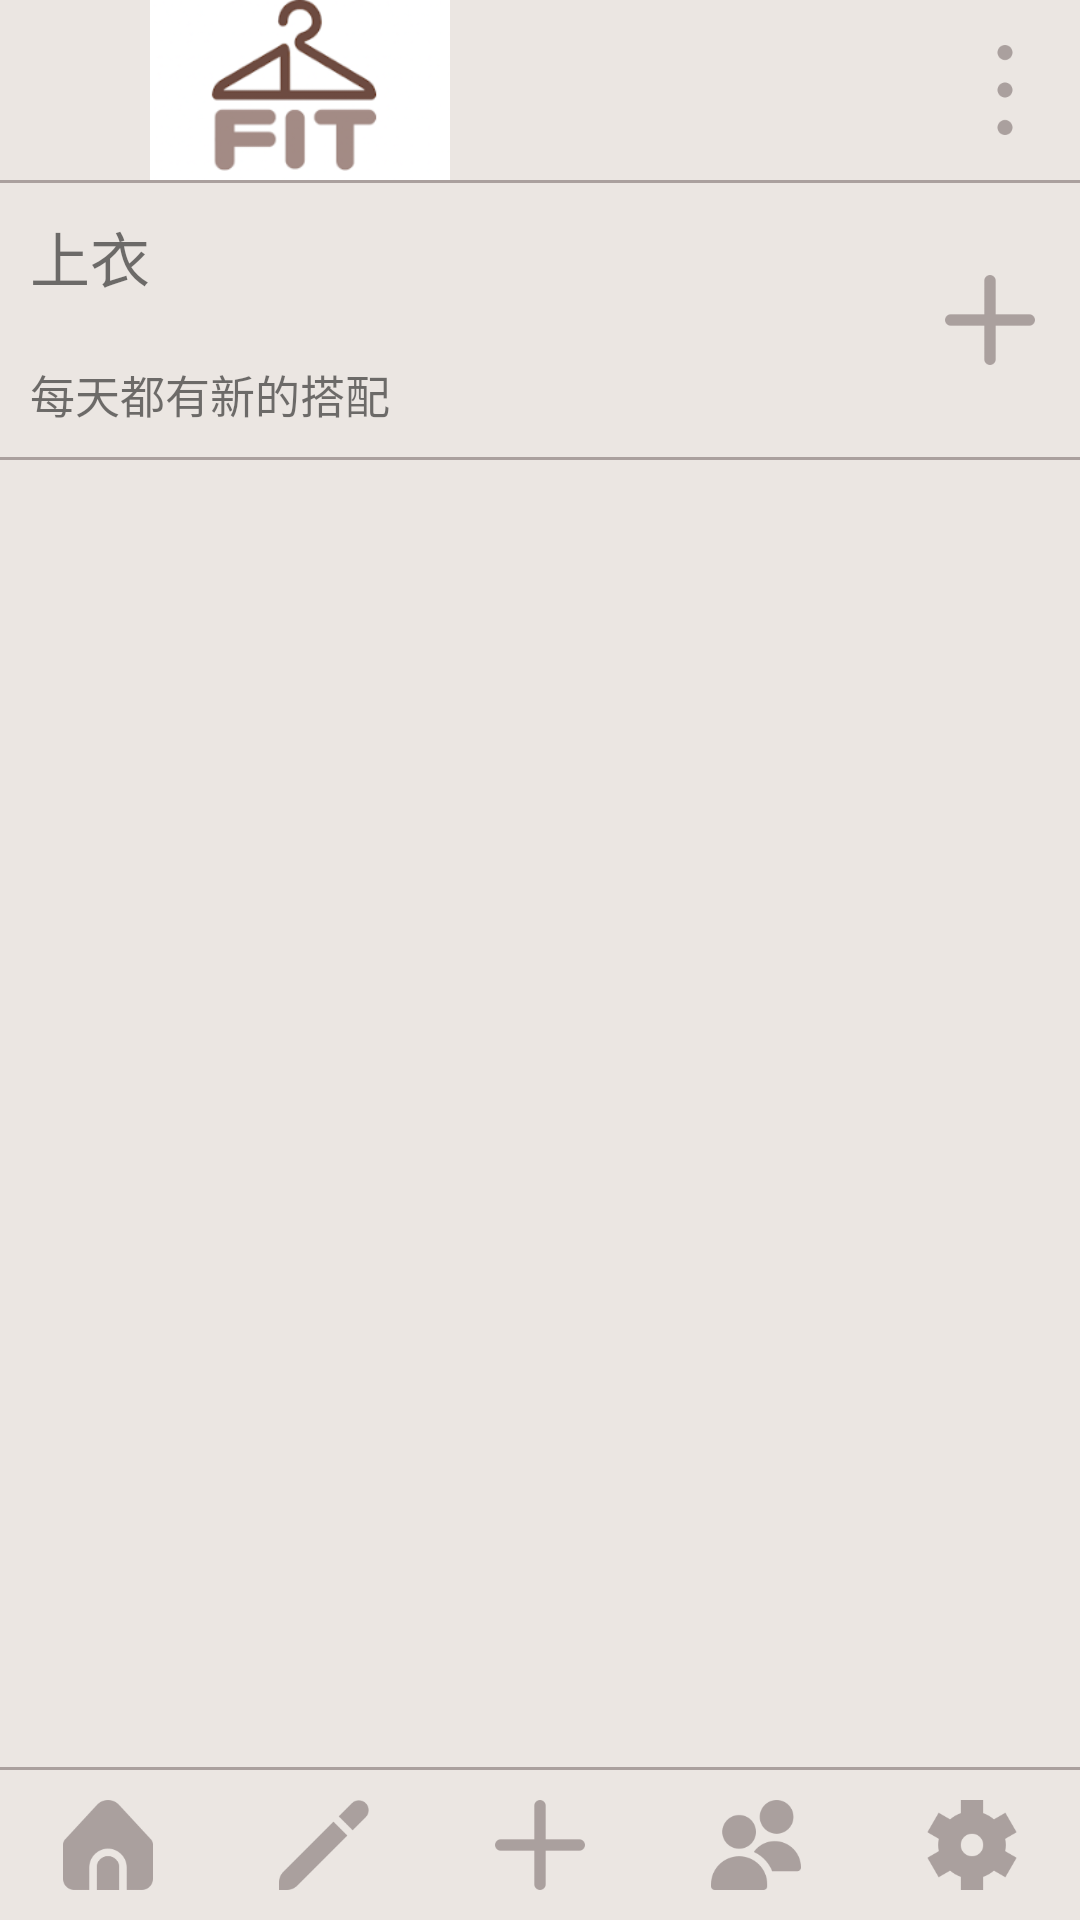

Screen size 1080 × 1920. Icon name, then its center in pixels as point (x, y):
home: point (108, 1845)
menu: point (1005, 90)
pencil: point (324, 1845)
plus: point (990, 320), point (540, 1845)
settings: point (972, 1845)
users: point (756, 1845)
